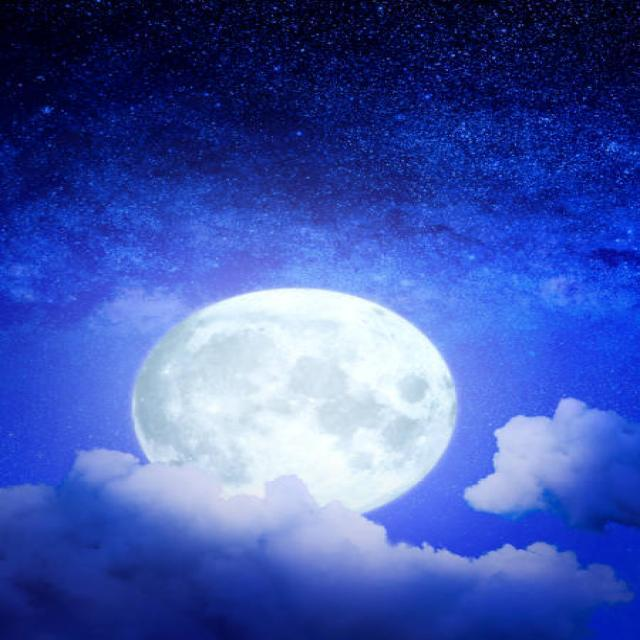moon: (130, 278, 457, 517)
